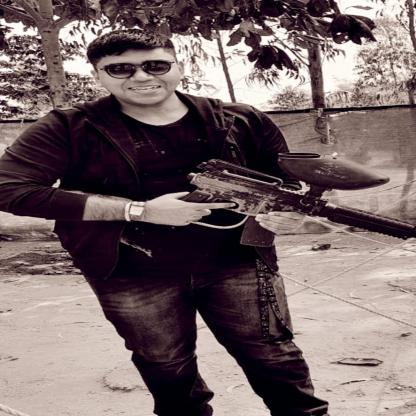rifle: (173, 151, 416, 249)
